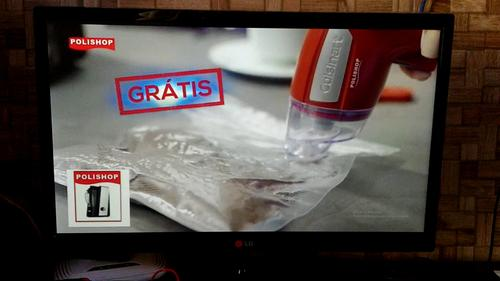Polishop #1: (68, 169, 130, 226)
